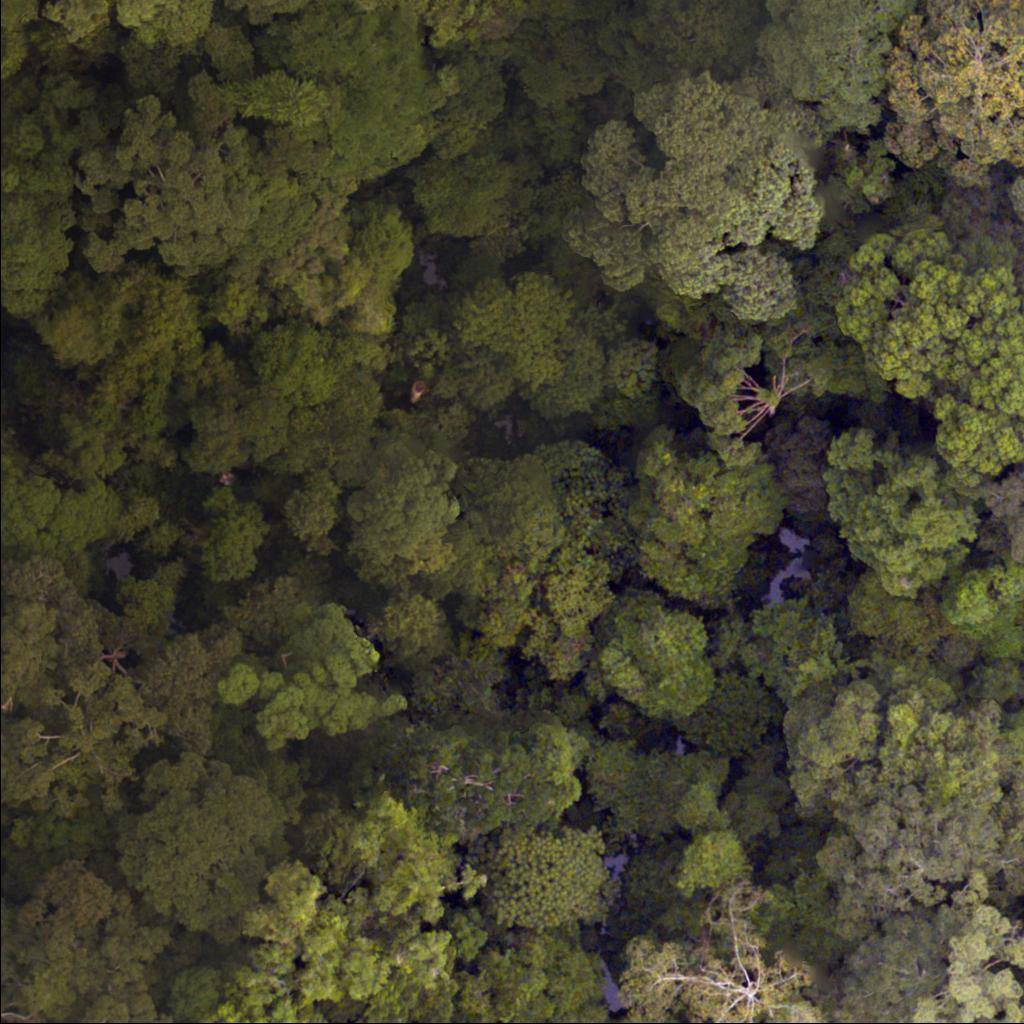crown: (564, 69, 843, 333), (0, 560, 218, 822), (833, 230, 1023, 487), (258, 0, 453, 190), (118, 744, 294, 943), (80, 90, 270, 273), (820, 422, 984, 607), (215, 600, 409, 751), (675, 317, 869, 467), (632, 424, 780, 610), (880, 0, 1023, 183), (631, 898, 838, 1023), (388, 709, 593, 835), (591, 585, 714, 728), (449, 268, 588, 394), (341, 431, 463, 574), (488, 812, 616, 933), (0, 446, 133, 562), (461, 931, 622, 1023), (920, 885, 1023, 1023), (47, 0, 218, 51), (843, 570, 946, 653), (367, 588, 462, 674), (975, 160, 1023, 328), (194, 481, 271, 585), (670, 822, 754, 892), (983, 460, 1023, 562), (0, 0, 36, 72), (605, 1011, 664, 1023), (355, 0, 366, 1)
